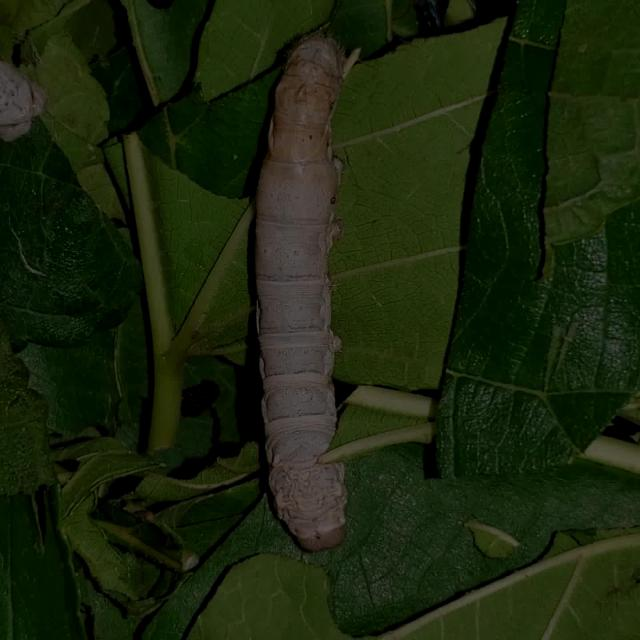Grasserie: (234, 20, 398, 560)
